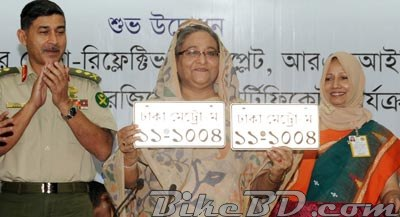registration_plate: (131, 99, 226, 149), (230, 102, 321, 151)
